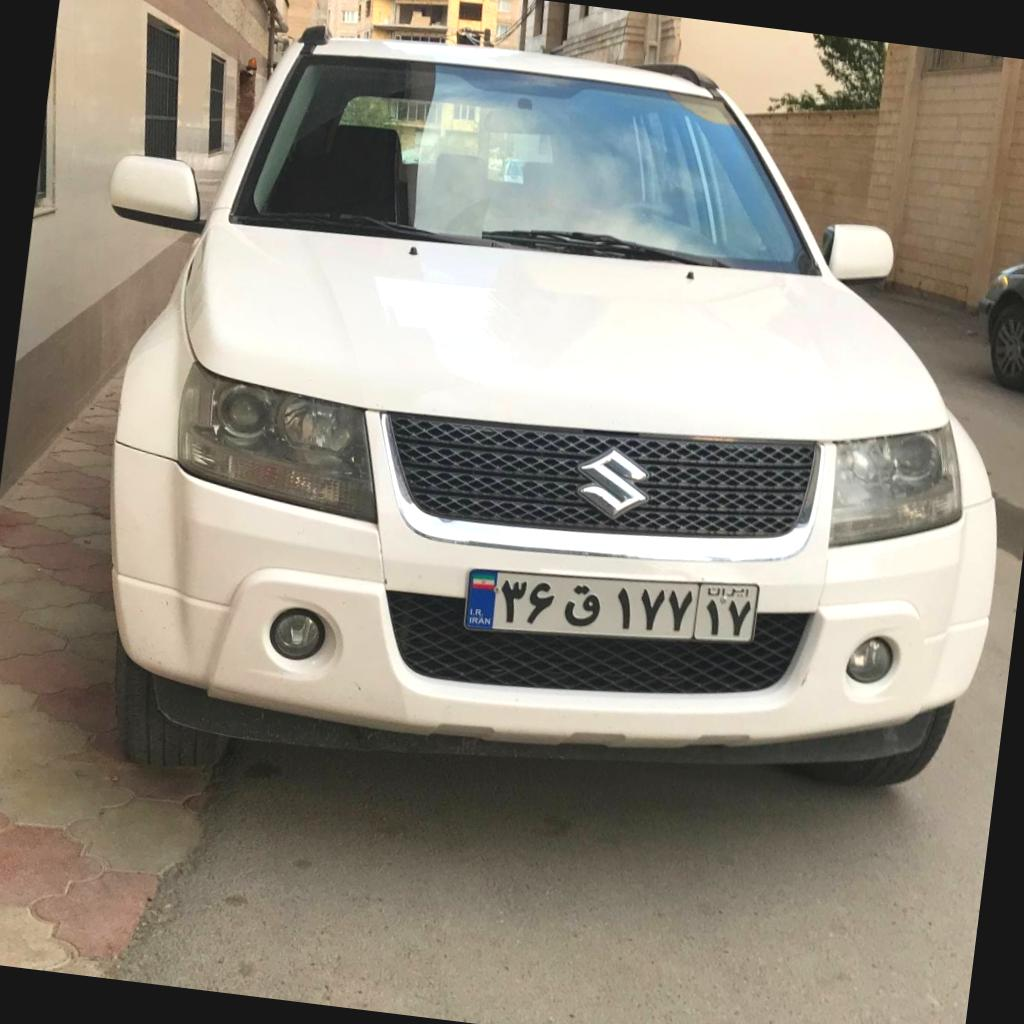Plates: (467, 568, 758, 640)
